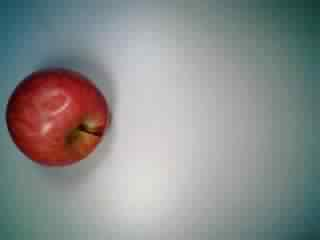apple: (5, 62, 108, 166)
